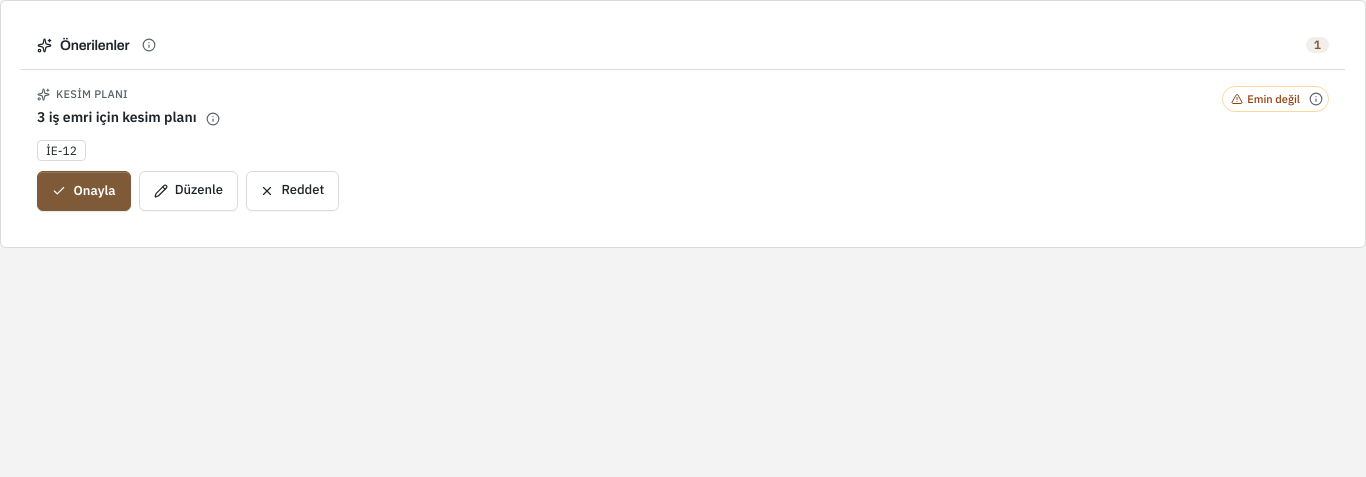
Test: edits only the declared fields and keeps the suggestion pending for approval
This screenshot has width=1366, height=477.
Click the button "Düzenle". click: (188,190)
box: [139,170,238,210]
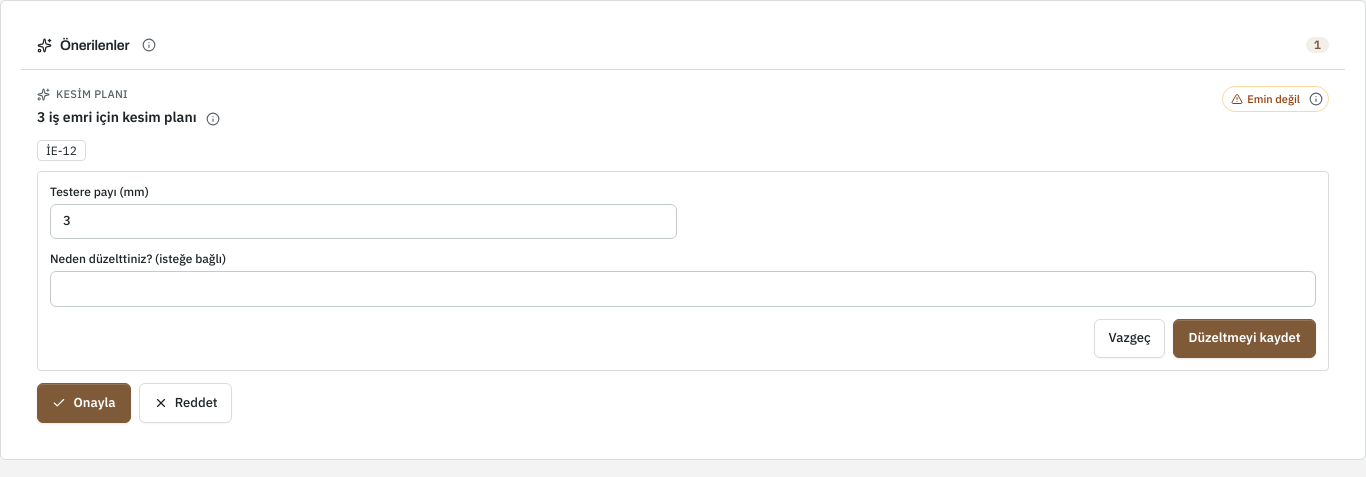
Replace the text in the number field labelled "Testere payı (mm)" with "4". click: (364,221)
box: [50,204,677,239]
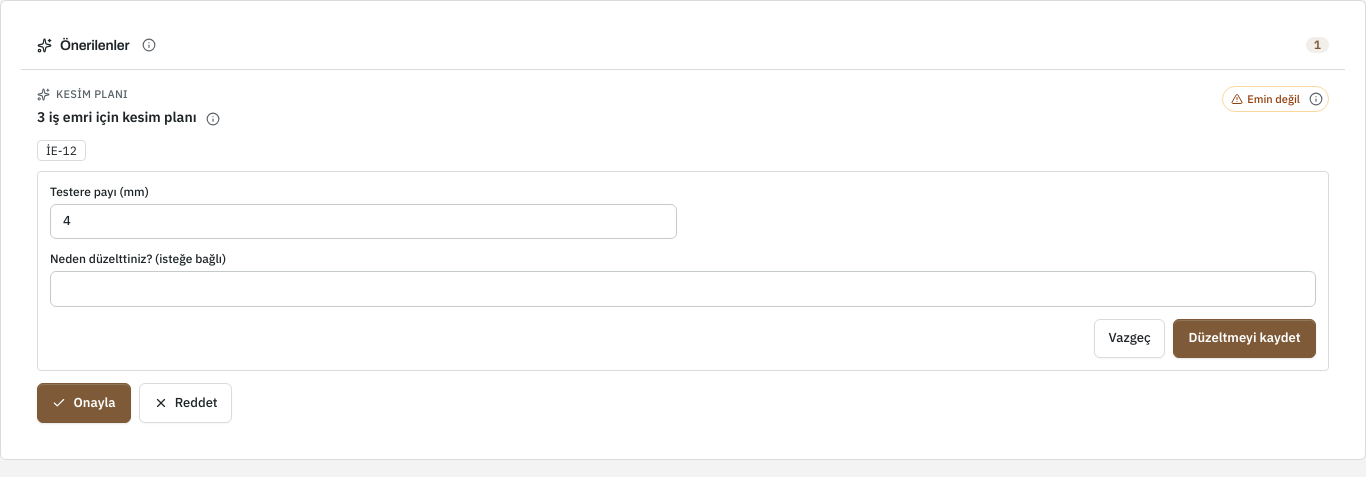
Click the button "Düzeltmeyi kaydet". click: (1245,338)
box: [1173,319,1316,358]
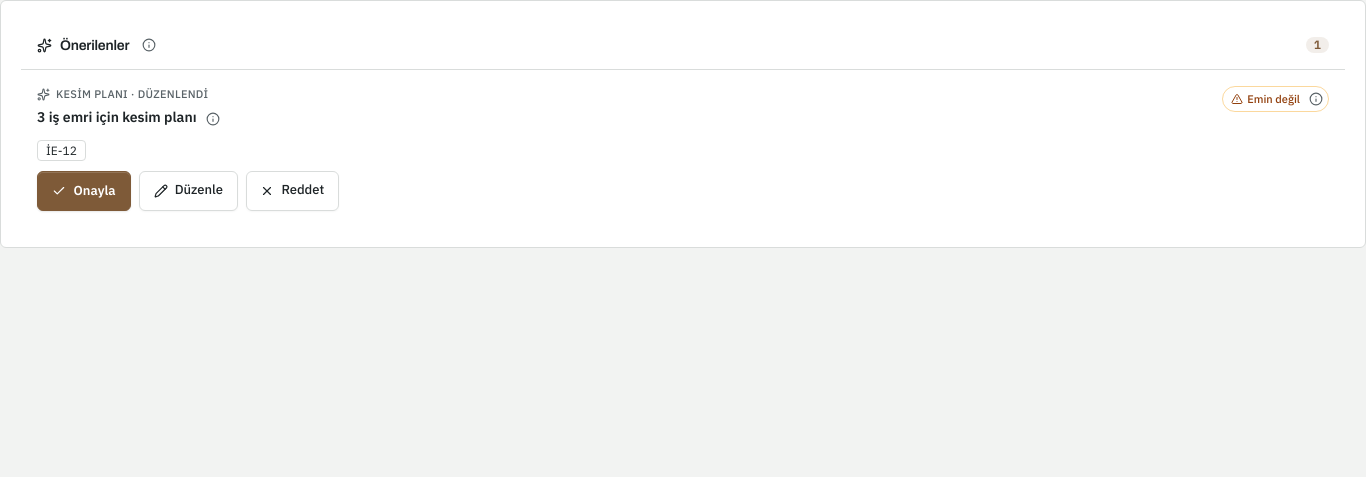
Result: the text "Kesim planı · düzenlendi" is shown at [37,86,224,102]
